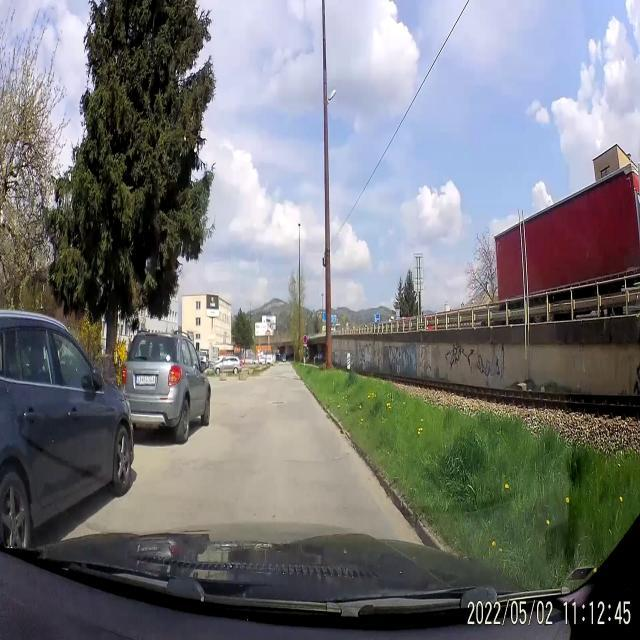Pothole: (268, 394, 288, 411)
